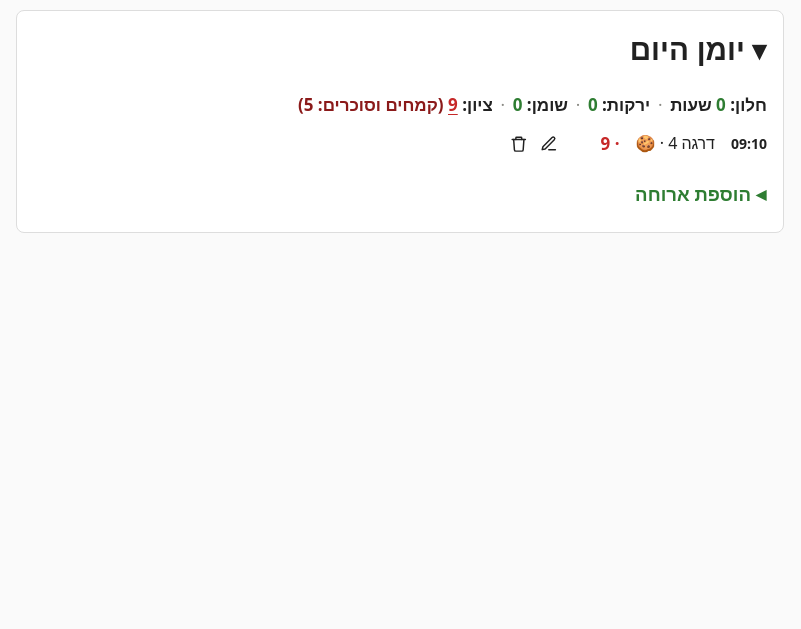
DayTracker › opens an edited addition on the amount it was recorded at
The width and height of the screenshot is (801, 629).
Click the button named "עריכת ארוחה 09:10" at [549, 144], box [534, 128, 565, 159]
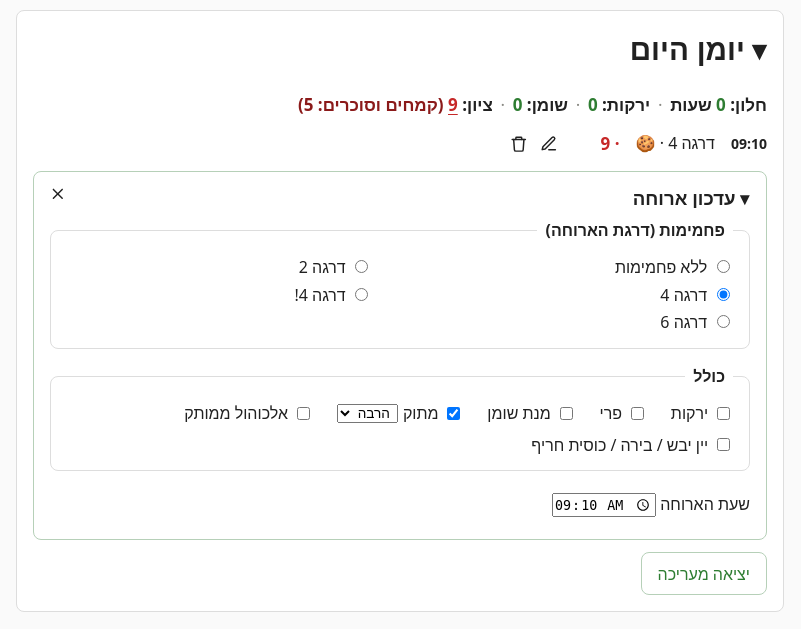
Now the checkbox labelled "מתוק" is checked, box [447, 406, 460, 420]
Now the dropdown named "כמות — מתוק" shows "הרבה", box [337, 404, 398, 422]
